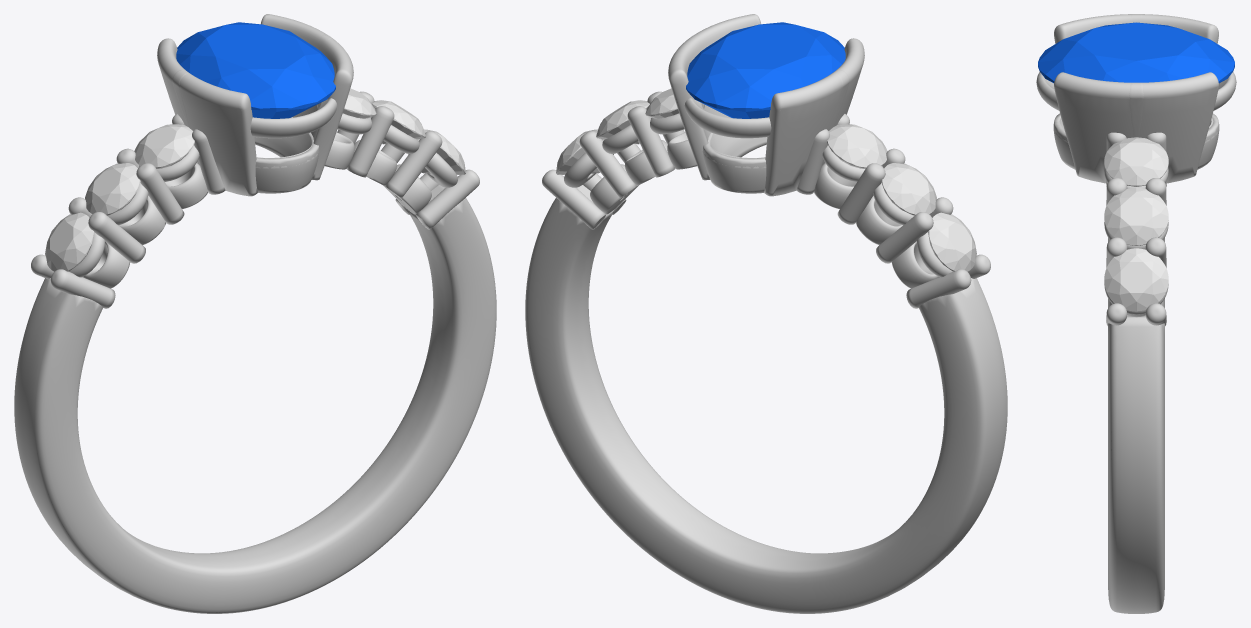
Rendered from bluesapphire-oval-platinum-halfmoonbezel-straightband-7stone.glb.
The picture shows the model from 3 angles, left to right: view 1: azimuth 30°, elevation 25°; view 2: azimuth 150°, elevation 25°; view 3: azimuth 270°, elevation 25°; orthographic projection.
Visible parts, largest first — view 1: metal, stone.003, side.006, side.007, side.008, side.010, side.011, side.009; view 2: metal, stone.003, side.006, side.007, side.008, side.010, side.011, side.009; view 3: metal, stone.003, side.009, side.010, side.011.
Boxes of the visible parts, x1,y1,x2,y2 form: metal: [14, 14, 496, 613]; stone.003: [176, 22, 335, 118]; side.006: [45, 212, 93, 271]; side.007: [85, 163, 140, 215]; side.008: [134, 124, 194, 168]; side.010: [372, 100, 425, 144]; side.011: [343, 88, 376, 118]; side.009: [421, 129, 465, 174]; metal: [525, 14, 1007, 613]; stone.003: [686, 22, 845, 118]; side.006: [928, 212, 976, 271]; side.007: [881, 163, 936, 215]; side.008: [827, 124, 887, 168]; side.010: [596, 100, 649, 144]; side.011: [645, 88, 678, 118]; side.009: [556, 129, 600, 174]; metal: [1036, 14, 1236, 613]; stone.003: [1038, 22, 1234, 83]; side.009: [1104, 248, 1168, 311]; side.010: [1104, 187, 1168, 245]; side.011: [1104, 137, 1168, 186].
Bounding box in the file's own units: 20.49 × 23.41 × 7.75.
